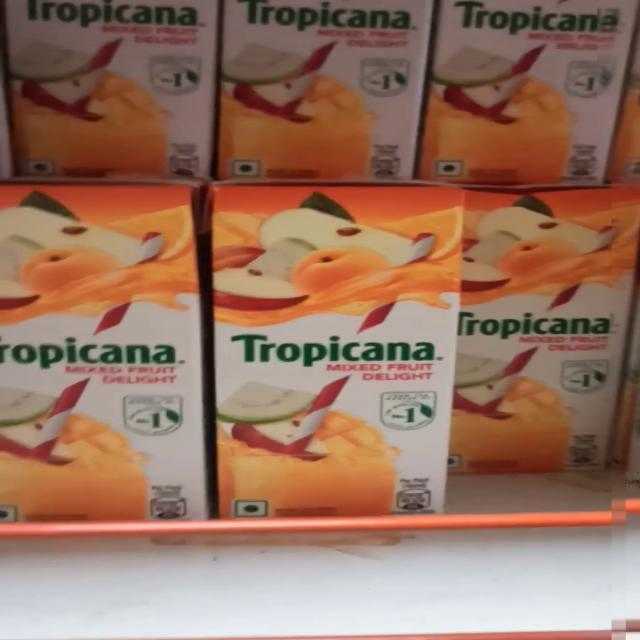Tropicana: (208, 180, 450, 520), (462, 188, 640, 494)
